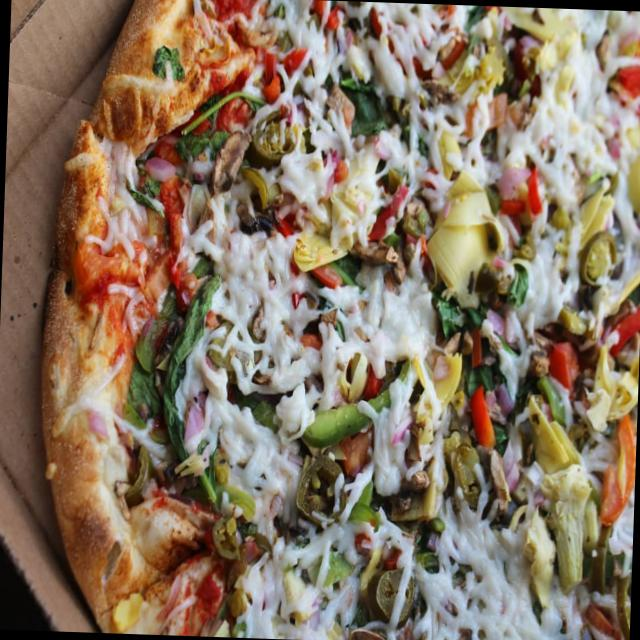peppers: (301, 357, 416, 445), (297, 446, 345, 526), (604, 408, 635, 528), (248, 100, 296, 165), (447, 438, 492, 503), (372, 564, 414, 620), (588, 512, 612, 602), (470, 388, 501, 452), (583, 227, 615, 286), (411, 514, 444, 570), (256, 44, 284, 104), (611, 563, 632, 640), (211, 511, 243, 560), (479, 261, 512, 307), (124, 448, 152, 502), (399, 202, 432, 238), (272, 207, 300, 242)
pizza: (26, 0, 640, 640)
